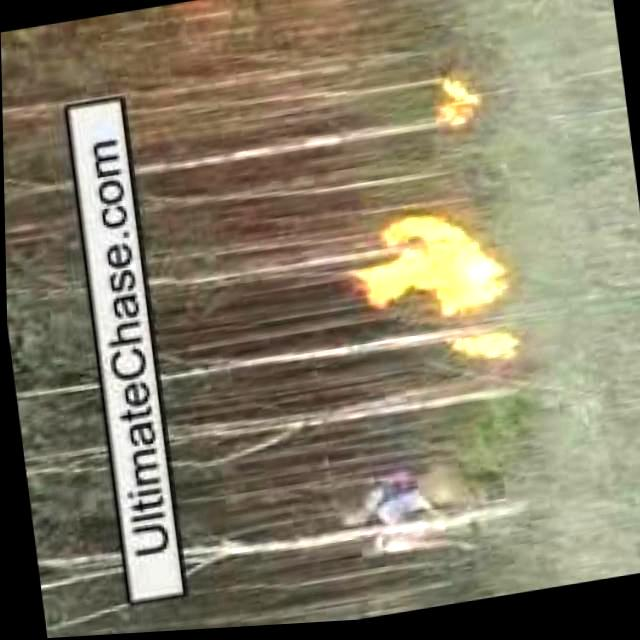fire: (355, 210, 501, 334), (423, 78, 487, 138), (438, 333, 522, 371)
